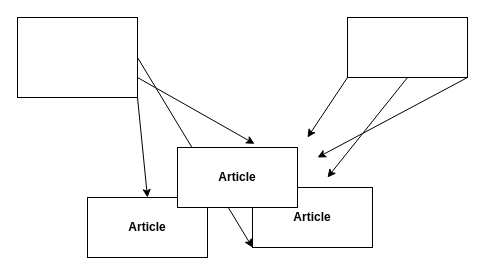
Some shapes in this 493 by 275 pixel diagram are drawn without their labels. The box of each missing label's shape, as (x1, y1, x2, y2) in pixels:
Author: (16, 16, 138, 98)
Magazine: (346, 16, 468, 78)
